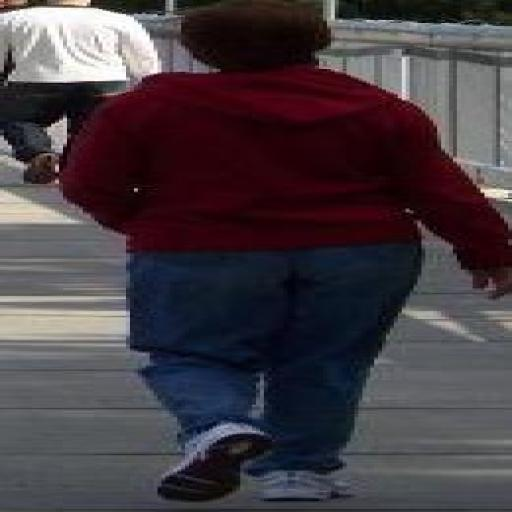person: (64, 0, 511, 501), (0, 0, 161, 183)
